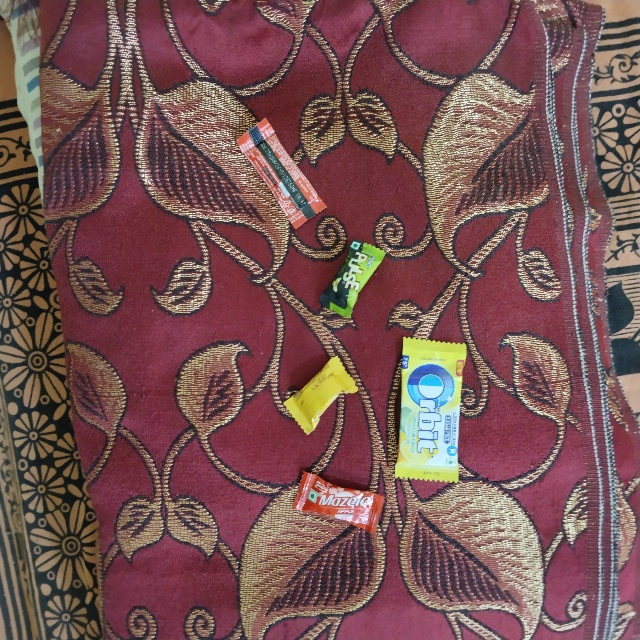Alpenlibe Creamfills: (279, 410, 363, 451)
Mazelo: (299, 467, 394, 512)
Nescafe Coffee: (225, 138, 269, 262)
Orbit: (402, 334, 469, 483)
Pulse: (358, 231, 401, 316)
